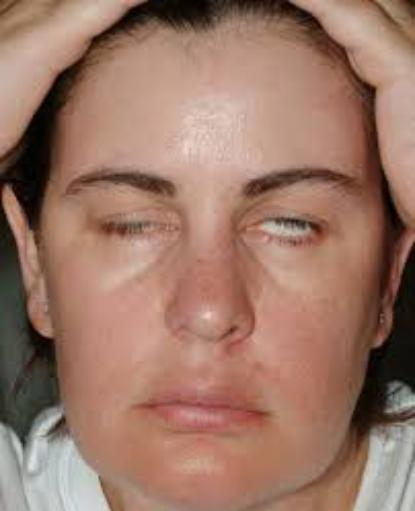left_eye: (247, 218, 327, 250)
left_lip_corner: (251, 403, 282, 428)
right_eye: (93, 216, 173, 244)
right_lip_corner: (126, 397, 154, 420)
